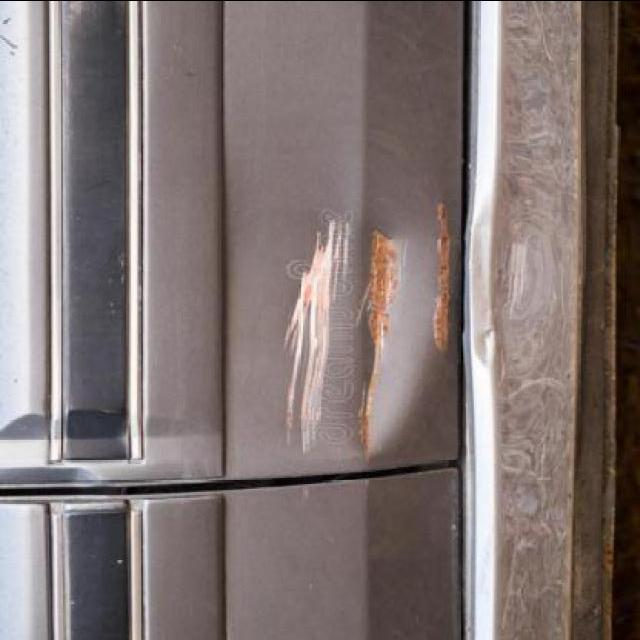RunningBoard-Dent: (466, 155, 562, 395)
doorouter-dent: (270, 188, 456, 460)
